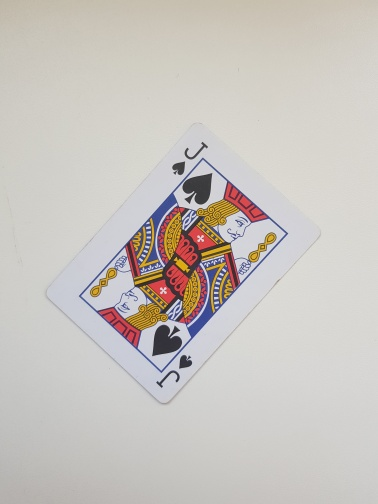jack: (44, 120, 322, 406)
